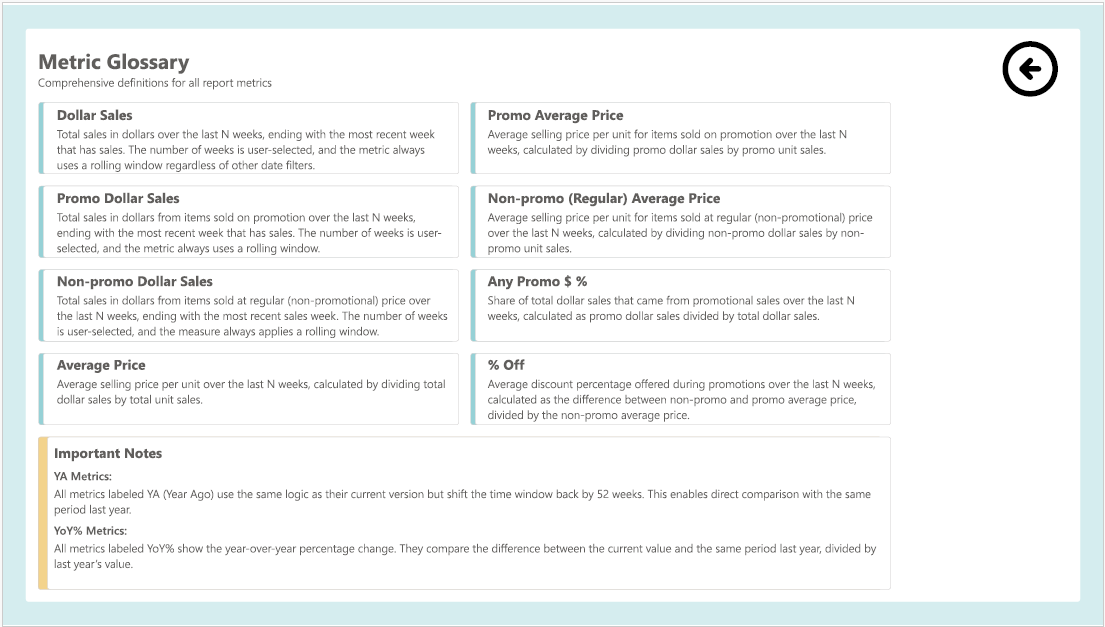

Layout of this report page (visuals, bound fields, positions):
{"tool":"powerbi","page":{"name":"Metric Glossary","canvas":[1920,1080],"ordinal":5},"visuals":[{"type":"actionButton","box":[1743.3,56.7,100,106.7],"z":0}]}

Visuals, with their boxes in screenshot pixels (x1, y1, x2, y2), scaled from the page's 1920x1080 canvas onto the 1105x627 screenshot:
actionButton: select_region(1003, 33, 1061, 95)
